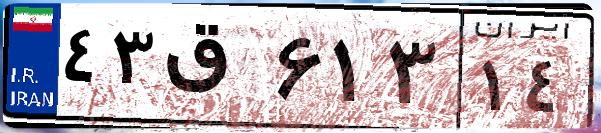1: (330, 28, 385, 110), (475, 38, 525, 113)
3: (385, 28, 445, 110), (110, 28, 158, 98)
4: (57, 26, 110, 100), (525, 38, 570, 115)
6: (270, 28, 330, 110)
ق: (158, 20, 270, 120)
